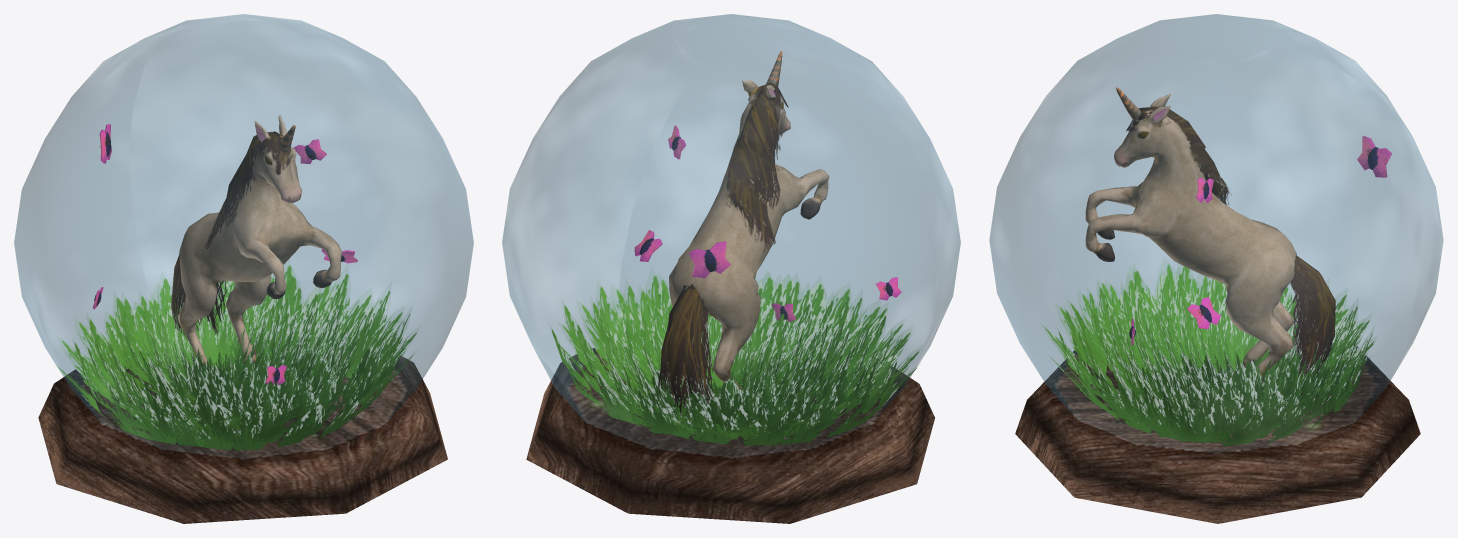
The model's file is unicorn_in_a_glass_ball.glb.
3 views of the same model, side by side, from view 1: azimuth 30°, elevation 25°; view 2: azimuth 150°, elevation 25°; view 3: azimuth 270°, elevation 25° (orthographic).
Visible parts, largest first — view 1: Ball_low, Gras_low, Bottom_low, Body_low, Hair_low, Tail_low; view 2: Ball_low, Gras_low, Bottom_low, Body_low, Hair_low, Tail_low, Butterfly_02_low; view 3: Ball_low, Bottom_low, Gras_low, Body_low, Tail_low, Hair_low, Butterfly_02_low, Butterfly_01_low.
Boxes of the visible parts, left/top/right/bottom form: Ball_low: left=14, top=14, right=473, bottom=458; Gras_low: left=58, top=265, right=416, bottom=450; Bottom_low: left=38, top=355, right=447, bottom=523; Body_low: left=177, top=115, right=341, bottom=371; Hair_low: left=204, top=131, right=291, bottom=248; Tail_low: left=171, top=254, right=226, bottom=341; Ball_low: left=502, top=14, right=960, bottom=457; Gras_low: left=551, top=273, right=919, bottom=445; Bottom_low: left=526, top=348, right=934, bottom=523; Body_low: left=669, top=51, right=829, bottom=390; Hair_low: left=726, top=83, right=788, bottom=252; Tail_low: left=658, top=286, right=713, bottom=416; Butterfly_02_low: left=688, top=241, right=730, bottom=278; Ball_low: left=989, top=14, right=1443, bottom=452; Bottom_low: left=1015, top=346, right=1420, bottom=523; Gras_low: left=1044, top=264, right=1374, bottom=446; Body_low: left=1085, top=87, right=1296, bottom=376; Tail_low: left=1290, top=256, right=1335, bottom=379; Hair_low: left=1126, top=106, right=1231, bottom=204; Butterfly_02_low: left=1357, top=136, right=1391, bottom=177; Butterfly_01_low: left=1187, top=297, right=1220, bottom=329.
Bounding box in the file's own units: 2 × 1.96 × 2.
Materials: 1 (1 with a texture image).
